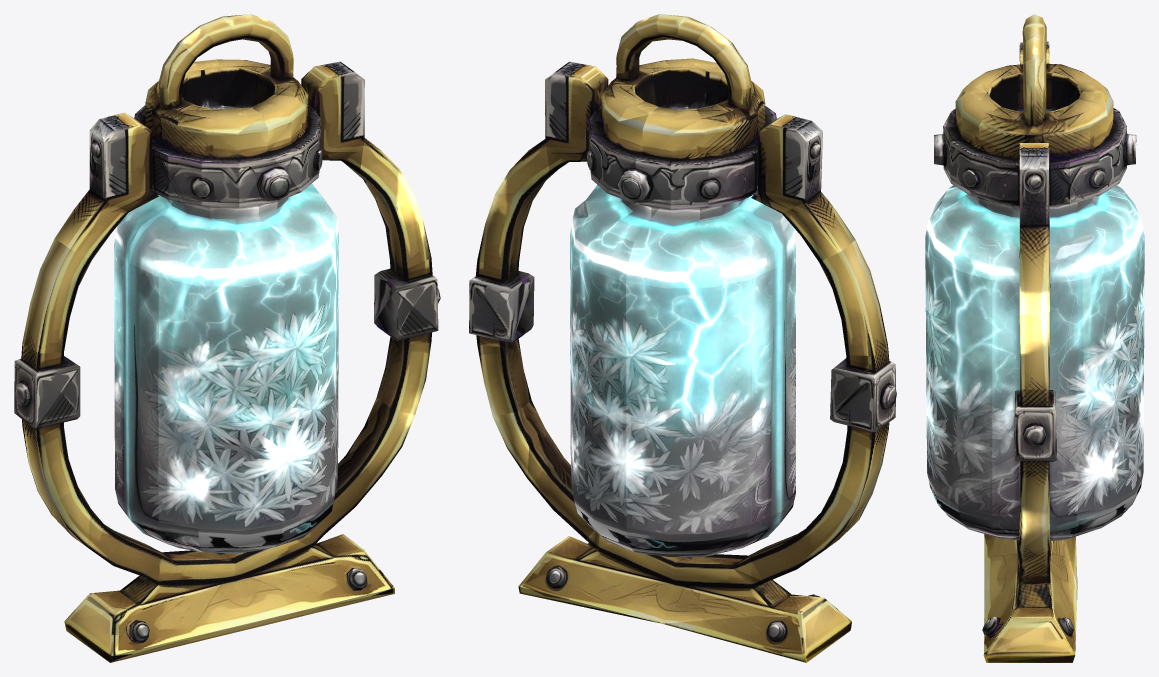
The model's file is storm_glass.glb.
3 renders of one model, left to right at view 1: azimuth 30°, elevation 25°; view 2: azimuth 150°, elevation 25°; view 3: azimuth 270°, elevation 25°, orthographic. The views are drawn at different scales.
Size of the model in its own units: 0.7344 by 1 by 0.3477.
1 material, 1 textured.
